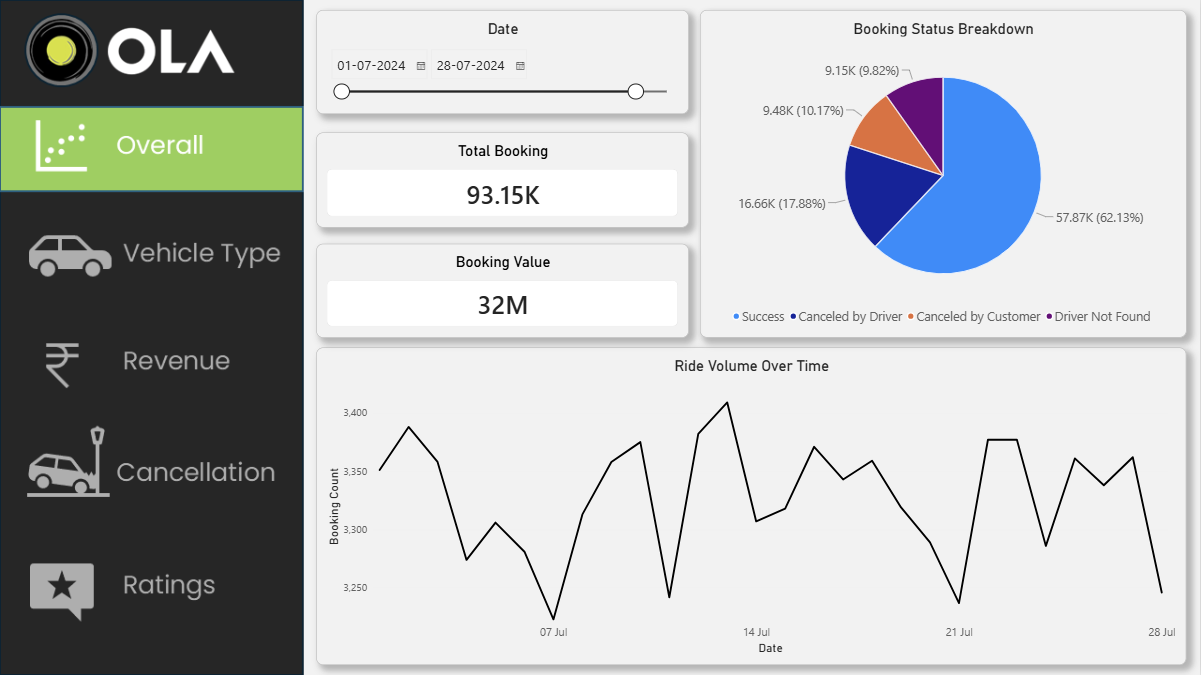

The dashboard page shown, as its layout file describes it:
{"tool":"powerbi","page":{"name":"Overall","canvas":[1920,1080],"ordinal":0},"visuals":[{"type":"actionButton","box":[0,340,484,134],"z":0},{"type":"actionButton","box":[0,514,484,134],"z":1000},{"type":"actionButton","box":[0,676,484,134],"z":2000},{"type":"actionButton","box":[0,872,484,134],"z":3000},{"type":"lineChart","title":"Ride Volume Over Time","fields":{"Category":["July.Date"],"Y":["CountNonNull(July.Booking_ID)"]},"box":[506,556,1392,508],"z":4000},{"type":"pieChart","title":"Booking Status Breakdown","fields":{"Category":["July.Booking_Status"],"Y":["CountNonNull(July.Booking_Status)"]},"box":[1120,16,778,524],"z":5000},{"type":"slicer","title":"Date","fields":{"Values":["July.Date"]},"box":[506,16,596,166],"z":6000},{"type":"cardVisual","title":"Total Booking","fields":{"Data":["CountNonNull(July.Booking_ID)"]},"box":[506.4,212.7,596,152],"z":7000},{"type":"cardVisual","title":"Booking Value","fields":{"Data":["Sum(July.Booking_Value)"]},"box":[506,390,596,150],"z":8000}]}

Visuals, with their boxes in screenshot pixels (x1, y1, x2, y2), scaled from the page's 1920x1080 canvas onto the 1201x675 screenshot:
actionButton: [0, 212, 303, 296]
actionButton: [0, 321, 303, 405]
actionButton: [0, 422, 303, 506]
actionButton: [0, 545, 303, 629]
"Ride Volume Over Time" lineChart: [317, 348, 1187, 665]
"Booking Status Breakdown" pieChart: [701, 10, 1187, 338]
"Date" slicer: [317, 10, 689, 114]
"Total Booking" cardVisual: [317, 133, 690, 228]
"Booking Value" cardVisual: [317, 244, 689, 338]
